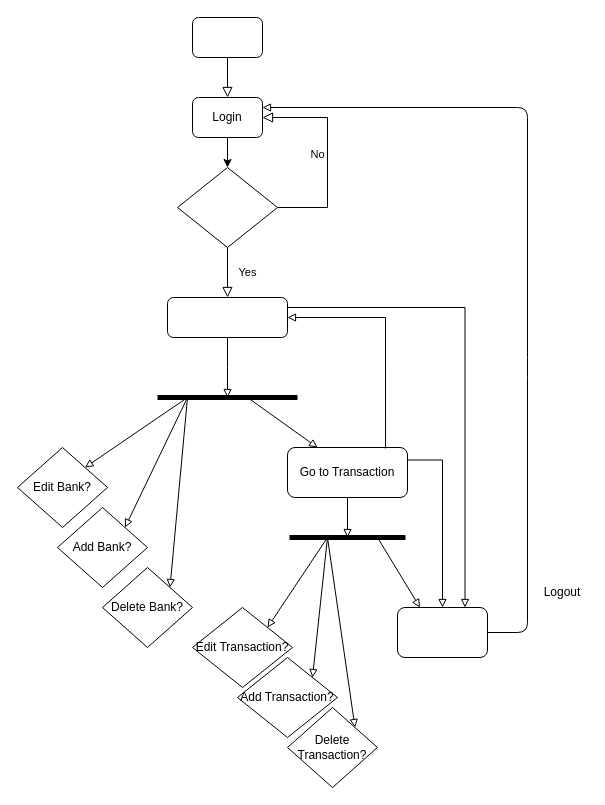
This 605x805 diagram has some shape labels left out. The centre of each missing label's shape, as x and y in pixels:
Go to Bank Page: (227,317)
Overview: (442,632)
Register: (227,37)
Success?: (227,207)
